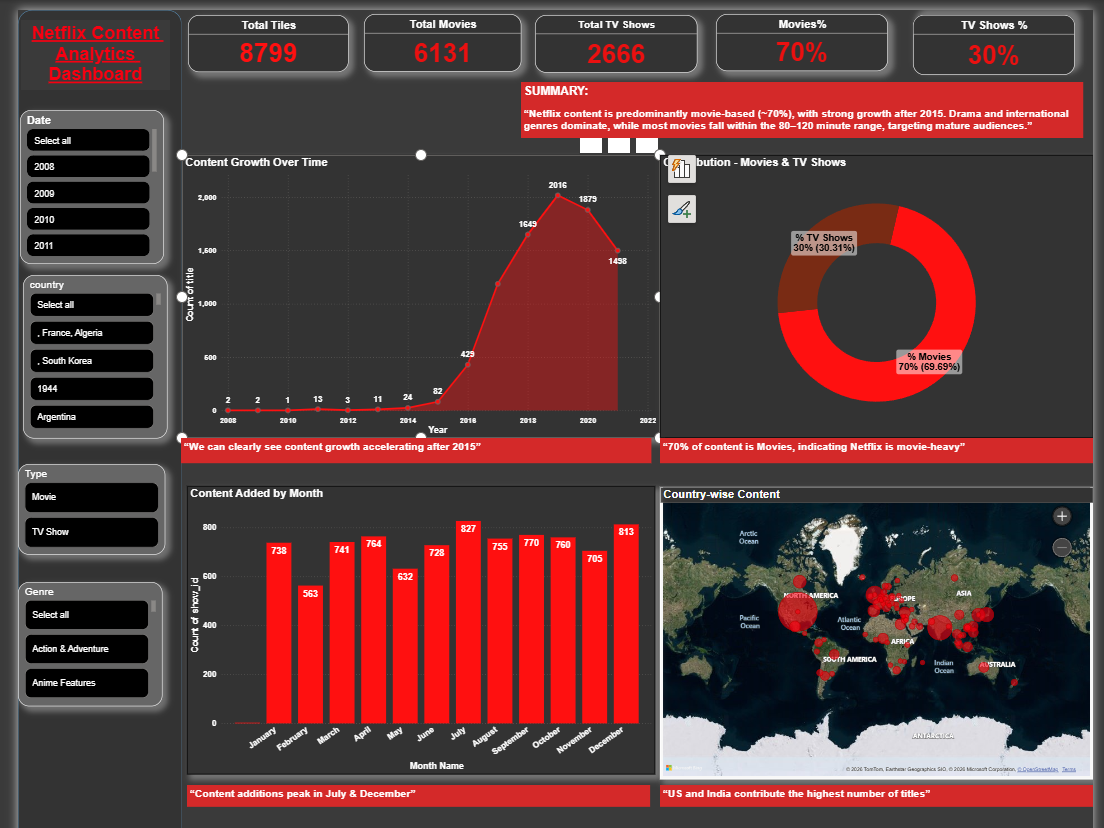

The dashboard page shown, as its layout file describes it:
{"tool":"powerbi","page":{"name":"Netflix Content Insights Dashboard","canvas":[1920,1500],"ordinal":0},"visuals":[{"type":"shape","box":[0,0,292.4,1488.9],"z":0},{"type":"card","title":"Total Movies","fields":{"Values":["netflix_titles.Total Movies"]},"box":[617.9,7.7,281.1,103.5],"z":1000},{"type":"card","title":"Total Tiles","fields":{"Values":["netflix_titles.Total Titles"]},"box":[304.3,9.3,287.3,101.9],"z":2000},{"type":"card","title":"Total TV Shows","fields":{"Values":["netflix_titles.Total TV Shows"]},"box":[923.7,9.3,290.4,103.5],"z":3000},{"type":"card","title":"Movies%","fields":{"Values":["netflix_titles.% Movies"]},"box":[1246.5,7.7,307.4,101.9],"z":4000},{"type":"card","title":"TV Shows %","fields":{"Values":["netflix_titles.% TV Shows"]},"box":[1598.7,9.3,288.8,106.6],"z":5000},{"type":"lineChart","title":"Content Growth Over Time","fields":{"Category":["netflix_titles.Year"],"Y":["CountNonNull(netflix_titles.title)"]},"box":[293.5,259.5,852.6,505.1],"z":6000},{"type":"donutChart","title":"Contribution - Movies & TV Shows","fields":{"Y":["netflix_titles.% Movies","netflix_titles.% TV Shows"]},"box":[1146.1,259.5,773.9,505.1],"z":7000},{"type":"map","title":"Country-wise Content","fields":{"Size":["CountNonNull(netflix_titles.title)"],"Category":["netflix_titles.country"]},"box":[1146.1,851.1,773.9,522.1],"z":9000},{"type":"textbox","box":[291.9,764.6,840.3,44.8],"z":10000},{"type":"textbox","box":[1146.1,764.6,773.9,44.8],"z":11000},{"type":"textbox","box":[1146.1,1384,773.9,38.6],"z":13000},{"type":"advancedSlicerVisual","title":"Date","fields":{"Values":["netflix_titles.Year Hierarchy.Year"]},"box":[3.3,178.3,256.7,275],"z":14000},{"type":"advancedSlicerVisual","title":"Type","fields":{"Values":["netflix_titles.type"]},"box":[0,810,263.3,161.7],"z":15000},{"type":"advancedSlicerVisual","fields":{"Values":["netflix_titles.country"]},"box":[8.3,473.3,258.3,291.7],"z":16000},{"type":"advancedSlicerVisual","title":"Genre","fields":{"Values":["netflix_titles.listed_in.1"]},"box":[0,1021.7,258.3,221.7],"z":17000},{"type":"textbox","box":[6.2,17,265.7,125.1],"z":19000},{"type":"textbox","box":[899,128.2,1004,100.4],"z":20000},{"type":"columnChart","title":"Content Added by Month","fields":{"Category":["netflix_titles.Month Name"],"Y":["CountNonNull(netflix_titles.show_id)"]},"box":[301.5,850.7,835.8,514.9],"z":20001},{"type":"textbox","box":[301.5,1383.6,826.9,38.8],"z":20002}]}

Visuals, with their boxes in screenshot pixels (x1, y1, x2, y2):
shape: x1=12, y1=6, x2=177, y2=827
"Total Movies" card: x1=360, y1=10, x2=519, y2=69
"Total Tiles" card: x1=183, y1=11, x2=345, y2=69
"Total TV Shows" card: x1=533, y1=11, x2=697, y2=69
"Movies%" card: x1=715, y1=10, x2=888, y2=68
"TV Shows %" card: x1=914, y1=11, x2=1077, y2=71
"Content Growth Over Time" lineChart: x1=177, y1=152, x2=658, y2=437
"Contribution - Movies & TV Shows" donutChart: x1=658, y1=152, x2=1095, y2=437
"Country-wise Content" map: x1=658, y1=486, x2=1095, y2=781
textbox: x1=176, y1=437, x2=650, y2=463
textbox: x1=658, y1=437, x2=1095, y2=463
textbox: x1=658, y1=787, x2=1095, y2=809
"Date" advancedSlicerVisual: x1=13, y1=106, x2=158, y2=262
"Type" advancedSlicerVisual: x1=12, y1=463, x2=160, y2=554
advancedSlicerVisual - netflix_titles.country: x1=16, y1=273, x2=162, y2=438
"Genre" advancedSlicerVisual: x1=12, y1=582, x2=157, y2=708
textbox: x1=15, y1=15, x2=165, y2=86
textbox: x1=519, y1=78, x2=1086, y2=135
"Content Added by Month" columnChart: x1=182, y1=486, x2=653, y2=776
textbox: x1=182, y1=787, x2=648, y2=809
